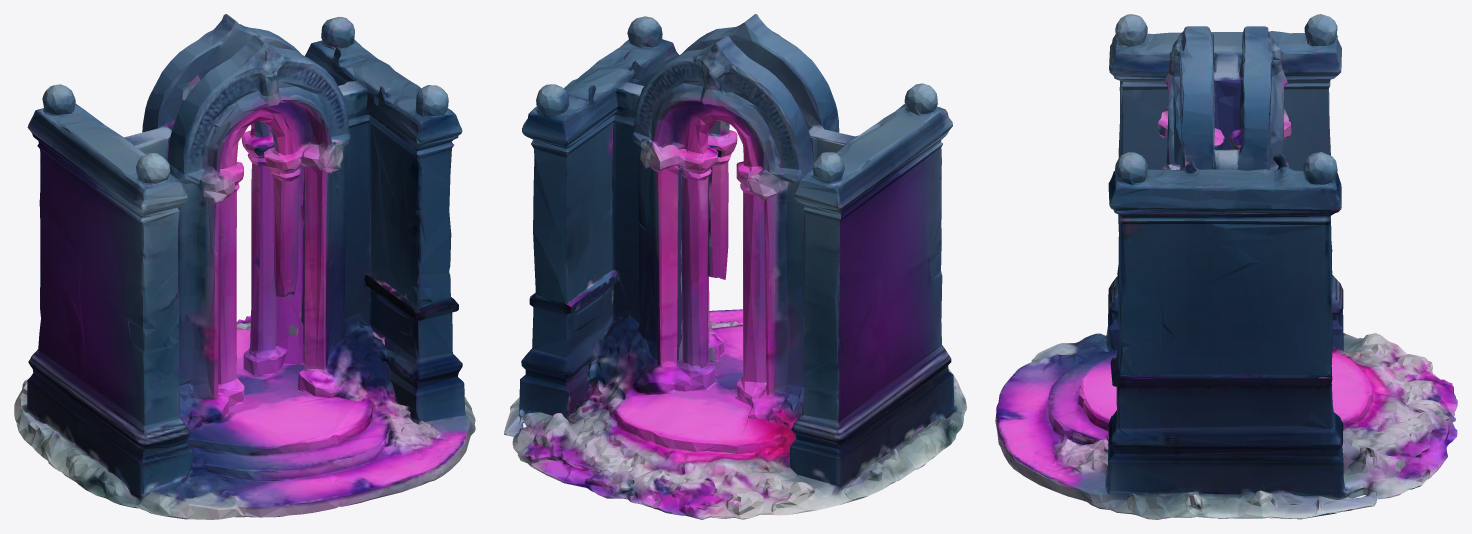
File: ruin-dais-generated-2026-04-19T23-21-06-179Z.low.glb
3 renders of one model, left to right at view 1: azimuth 30°, elevation 25°; view 2: azimuth 150°, elevation 25°; view 3: azimuth 270°, elevation 25°, orthographic.
Visible parts, largest first — view 1: temp_mesh.ply; view 2: temp_mesh.ply; view 3: temp_mesh.ply.
Part boxes in pixels (x1,y1,x2,y2): temp_mesh.ply: (14,14,475,519); temp_mesh.ply: (504,14,966,519); temp_mesh.ply: (995,14,1457,519).
Size of the model in its own units: 1.89 by 1.88 by 1.96.
Materials: 1 (1 with a texture image).
